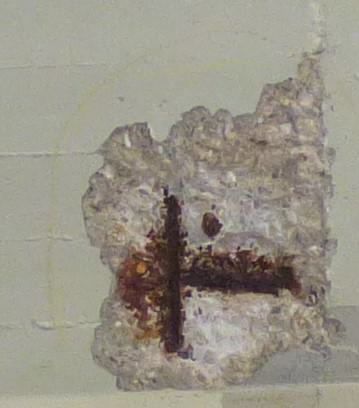Corrosion: (117, 227, 163, 342), (200, 211, 223, 242)
Exposed reinforcement: (163, 195, 183, 353), (186, 269, 291, 290)
Spalling: (80, 57, 346, 391)
